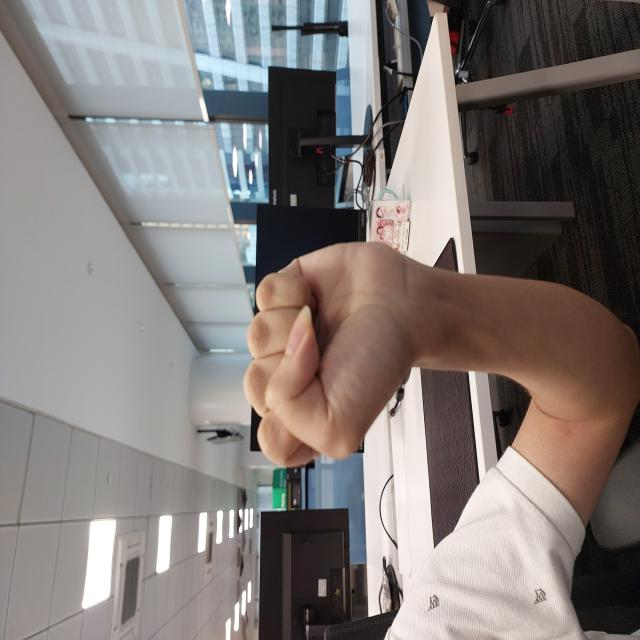S: (171, 240, 403, 416)
